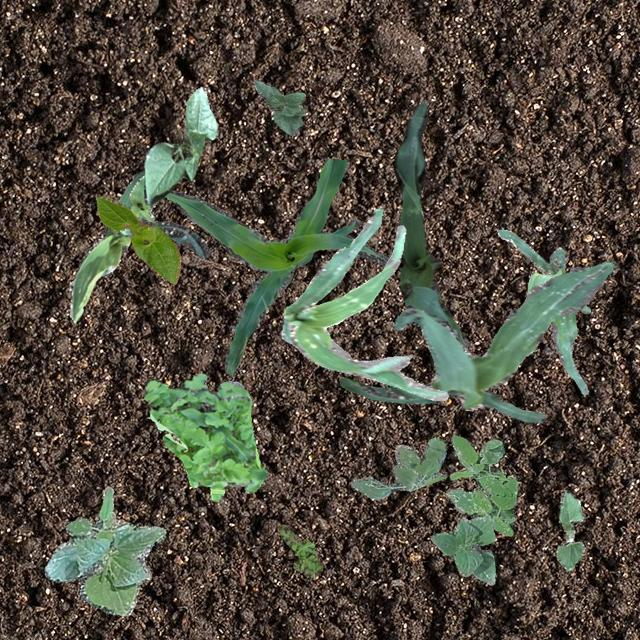crop: (164, 157, 388, 376), (338, 260, 614, 422), (280, 208, 448, 400), (68, 168, 210, 322), (393, 102, 468, 350), (496, 228, 590, 394), (44, 484, 164, 614), (142, 86, 218, 204), (96, 195, 180, 284), (430, 516, 494, 584), (252, 78, 304, 134), (118, 174, 156, 233), (556, 490, 584, 570), (228, 482, 240, 486)
weed: (144, 372, 266, 500), (444, 434, 516, 534), (350, 436, 446, 498), (278, 524, 322, 576)
